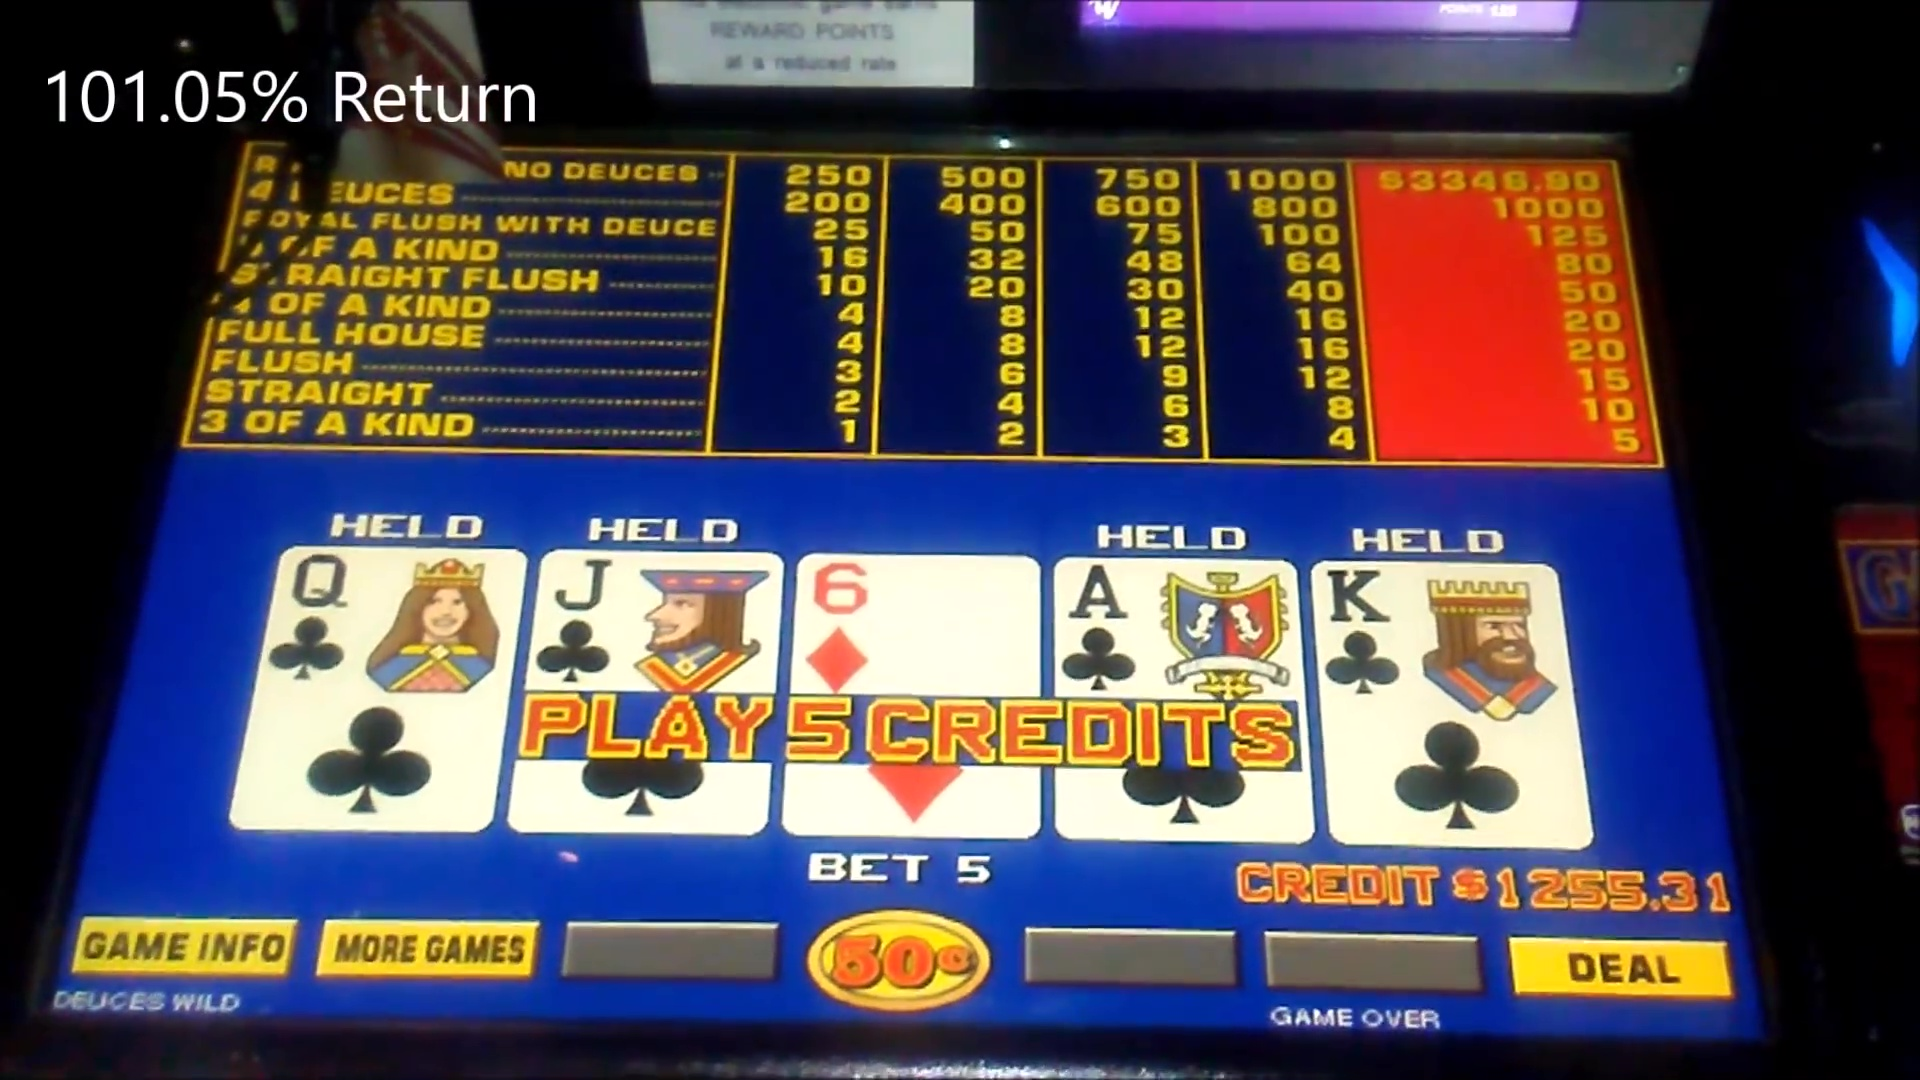6D: (796, 559, 1036, 688)
AC: (1058, 560, 1294, 695)
JC: (531, 553, 785, 688)
KC: (1325, 564, 1556, 699)
QC: (274, 549, 501, 698)
